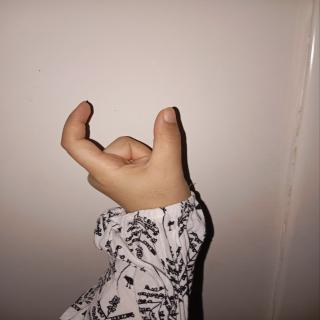NOON: (49, 92, 229, 230)
